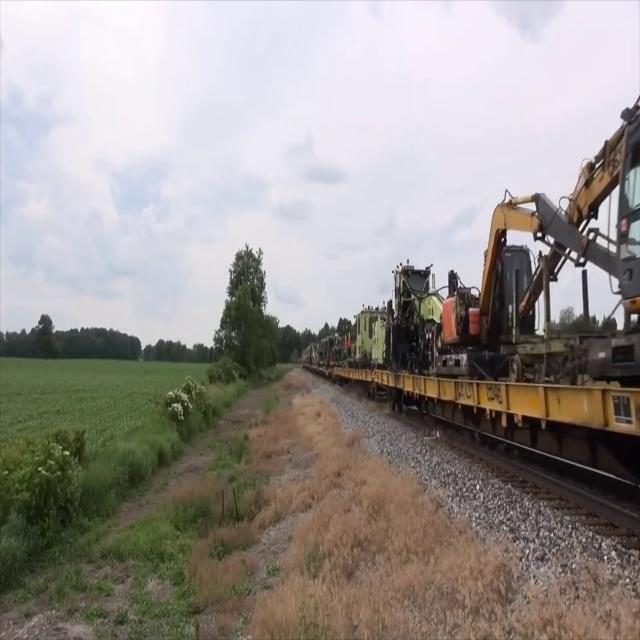cargo: (435, 150, 572, 378), (572, 85, 640, 384), (384, 252, 444, 374)
flatcar: (372, 367, 640, 494), (332, 364, 373, 400)
